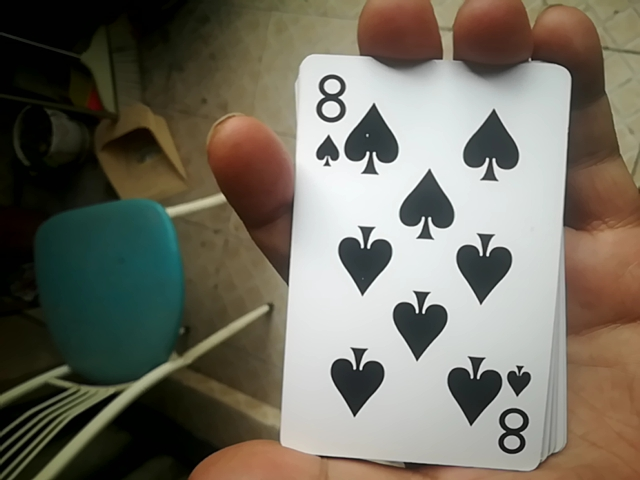ht 8: (269, 46, 559, 470)
